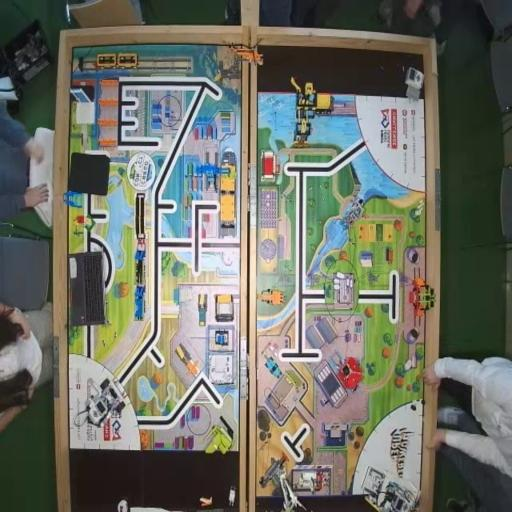lego_robot: (361, 465, 420, 512), (86, 376, 126, 429)
